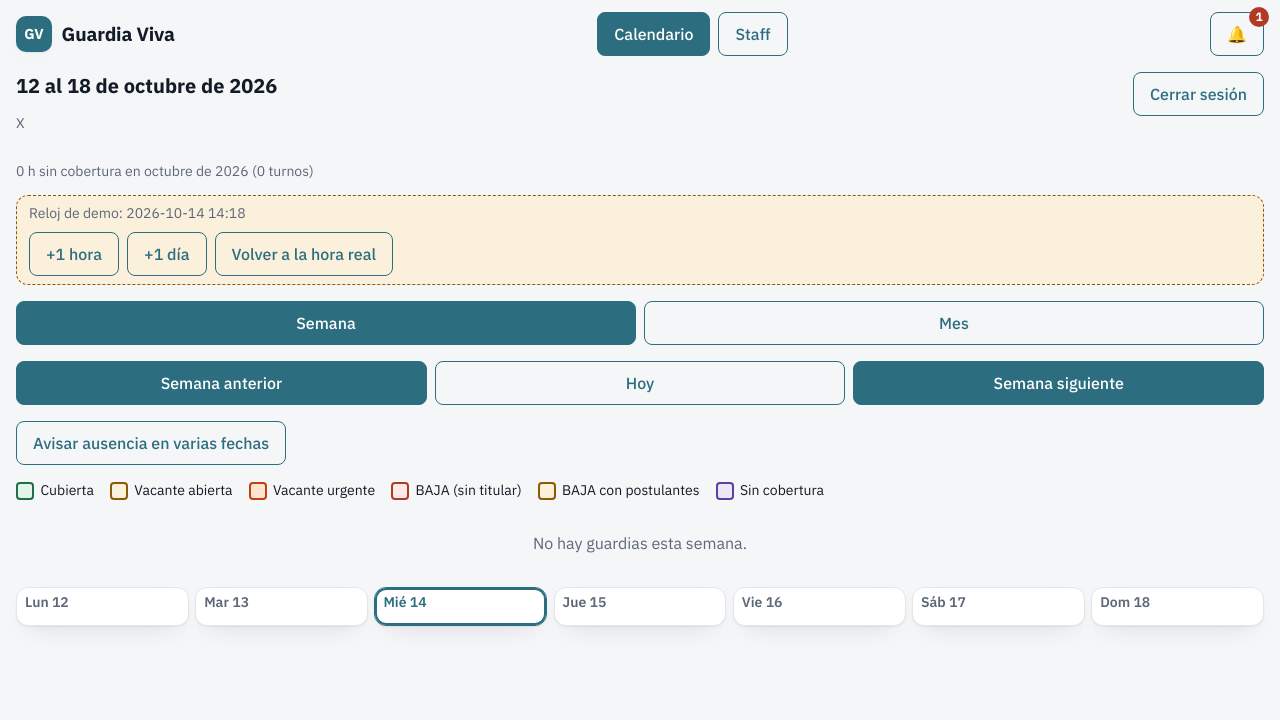
Scenario: Principal: pantalla de staff › tocar NUEVO_REGISTRO lleva al coordinador a la pantalla de staff
The image size is (1280, 720).
What coordinates should you click on to do the following:
click the button named "Notificaciones"
I would click on:
 (1237, 34)
Its box is [1210, 12, 1264, 56].
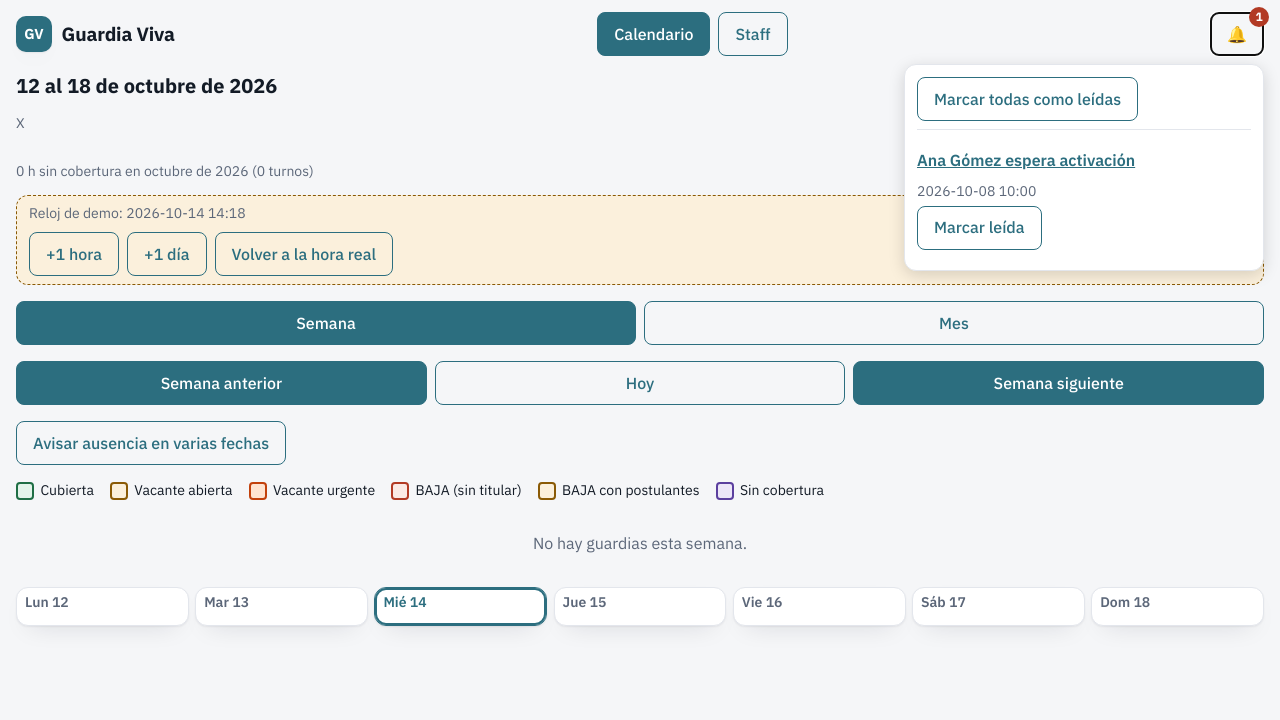
What coordinates should you click on to do the following:
click the button "Ana Gómez espera activación"
I would click on:
 (1084, 160)
Its box is [917, 138, 1251, 182].
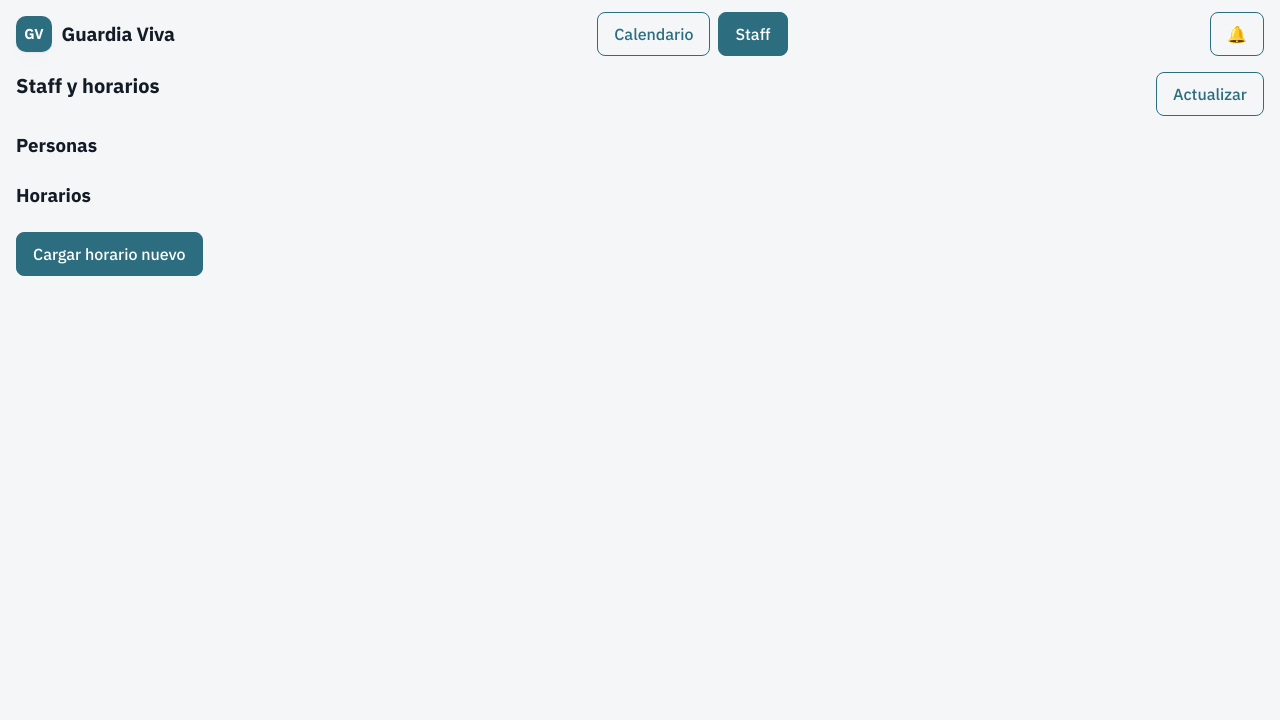
Result: the heading "Staff y horarios" is shown at [16, 72, 160, 100]
